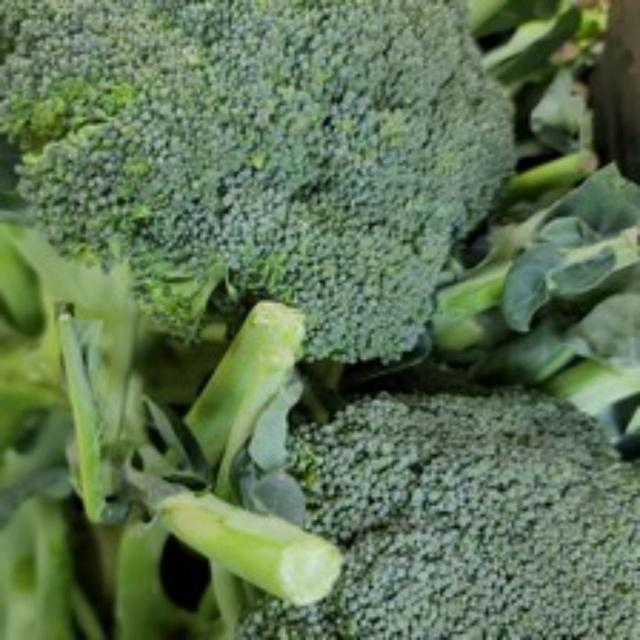broccoli: (0, 0, 510, 382)
